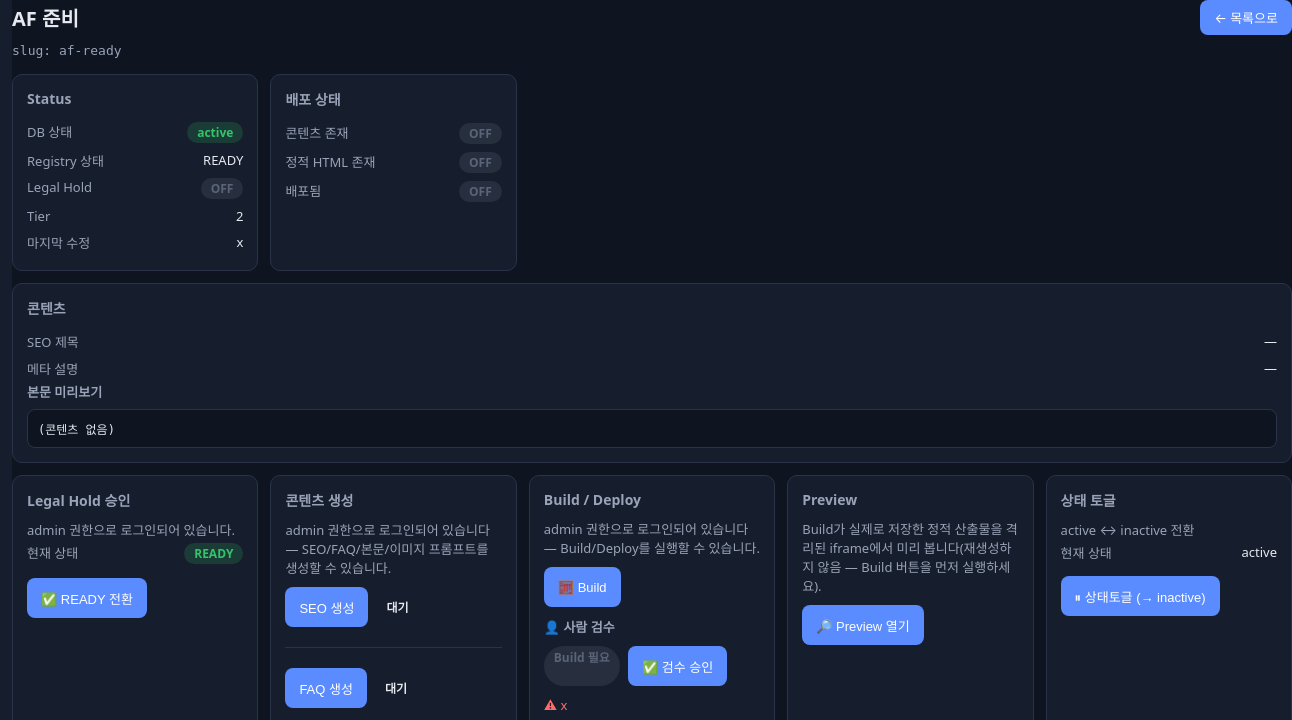
Test case: GAP-01 상태토글 › keeps the previous status on error
Click the button "⏸ 상태토글 (→ inactive)". click: (1140, 596)
box: [1061,576,1220,616]
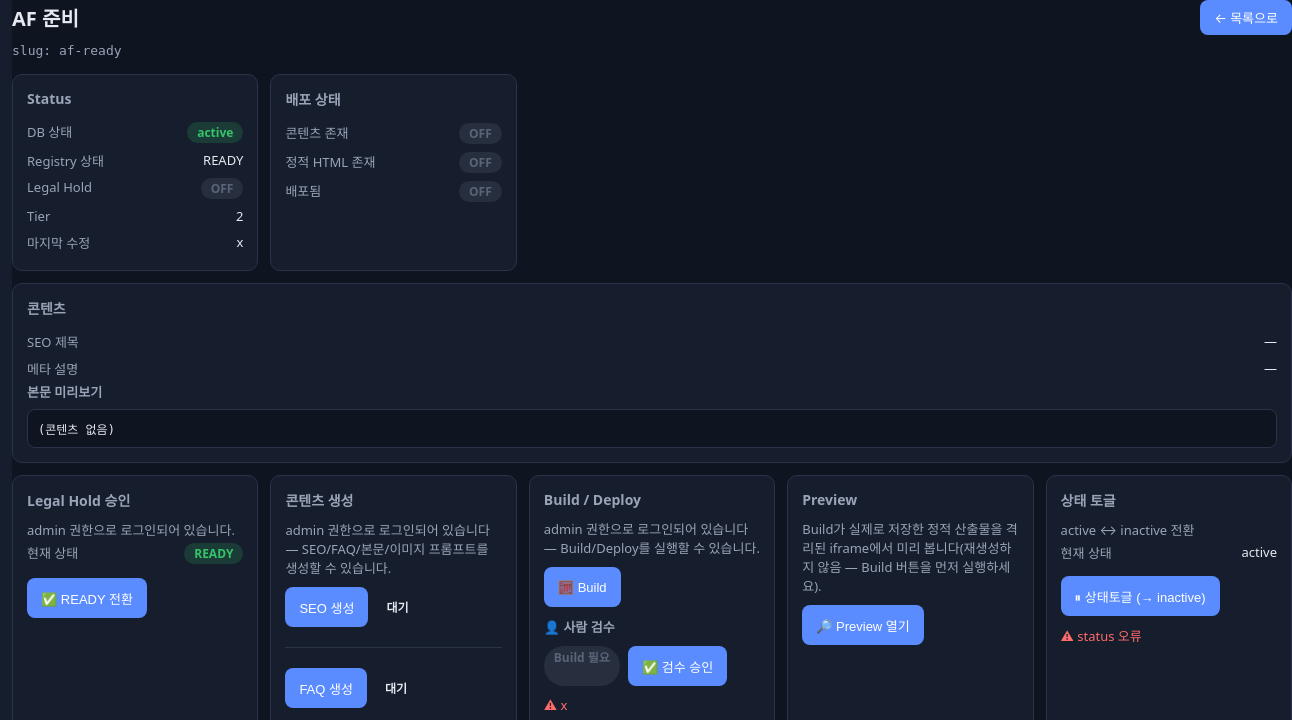
Expected: the text with test id "calc-db-status" reads "active", [1242,543,1277,561]
Expected: the text "⚠ status 오류" is shown, [1061,627,1142,645]
